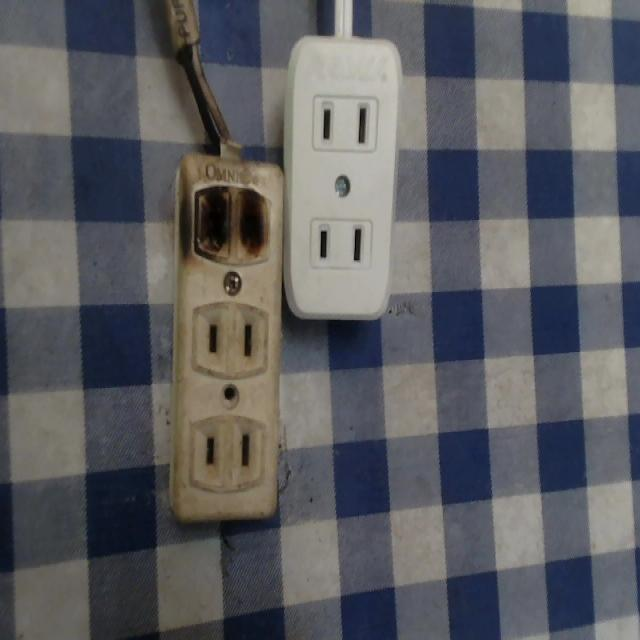-: (178, 176, 280, 269)
